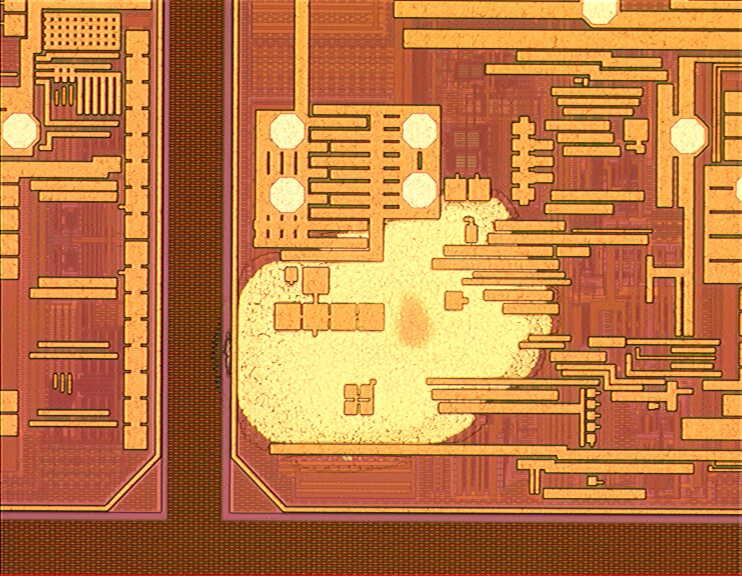BLOCK ETCH: (211, 185, 559, 470)
